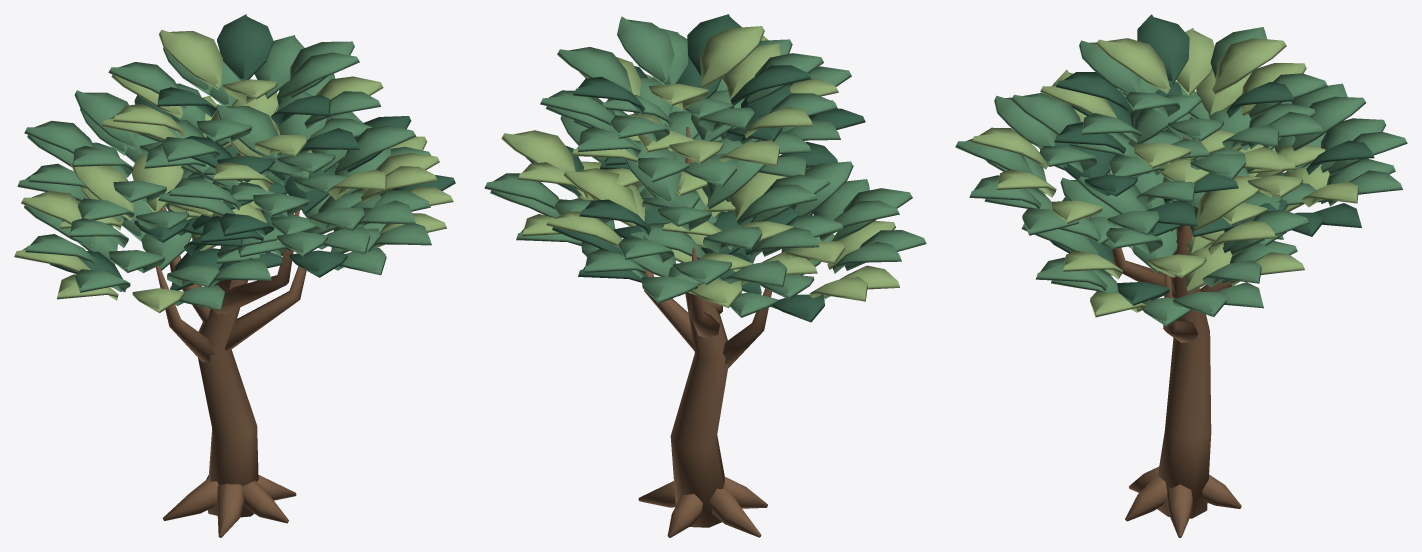
Rendered from garden_tree.glb.
3 views of the same model, side by side, from view 1: azimuth 30°, elevation 25°; view 2: azimuth 150°, elevation 25°; view 3: azimuth 270°, elevation 25° (orthographic). The views are drawn at different scales.
Visible parts, largest first — view 1: Sculpted broadleaf tree; view 2: Sculpted broadleaf tree; view 3: Sculpted broadleaf tree.
Part boxes in pixels (x1,y1,x2,y2): Sculpted broadleaf tree: (14,14,455,537); Sculpted broadleaf tree: (484,14,926,537); Sculpted broadleaf tree: (955,14,1407,537).
Size of the model in its own units: 3.55 by 3.84 by 3.42.
